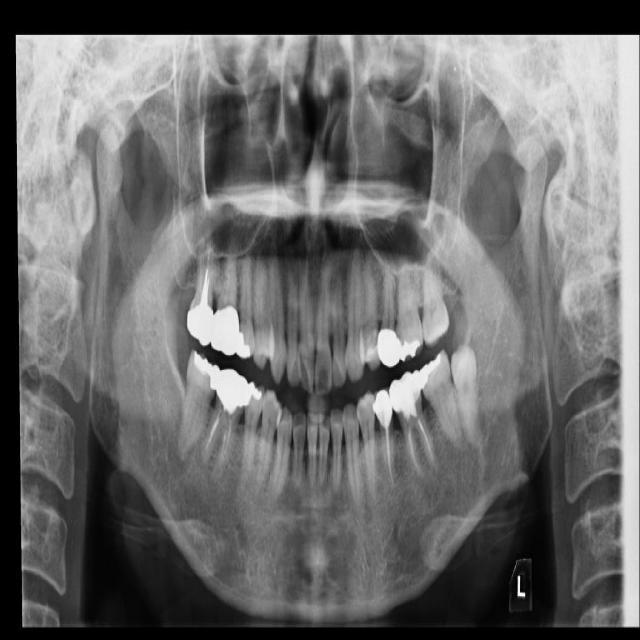52: (175, 348, 229, 404), (417, 349, 453, 405), (214, 368, 251, 420), (391, 312, 426, 363), (209, 304, 241, 357), (389, 371, 422, 421), (185, 297, 215, 349), (357, 326, 385, 372), (376, 321, 401, 368), (242, 380, 266, 426), (371, 386, 394, 429), (233, 319, 256, 359)
73: (195, 404, 244, 474), (396, 411, 443, 483), (192, 240, 216, 310), (379, 422, 397, 489), (598, 606, 606, 618)
BioHorizons Implant: (422, 242, 450, 348)
Biomet 3i Implant: (448, 342, 484, 449)
Blue Sky Bio Implant: (415, 349, 465, 453)
Caries: (186, 240, 215, 348)
Implant: (175, 348, 223, 463)
